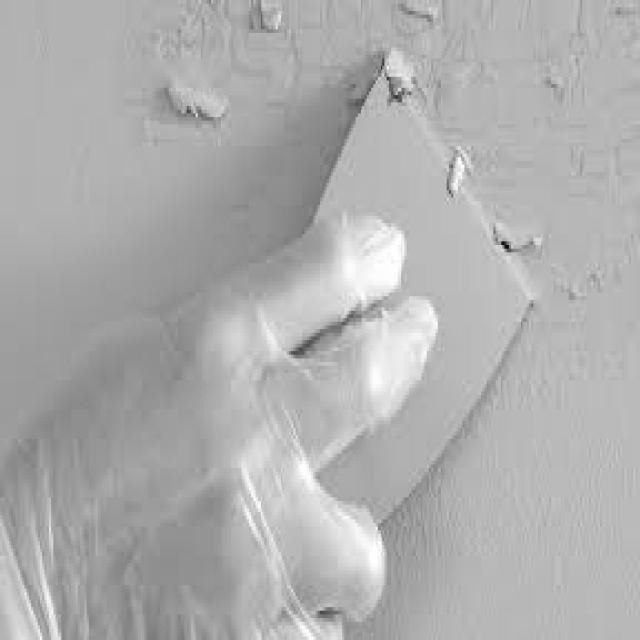peeling paint: (113, 0, 639, 391)
